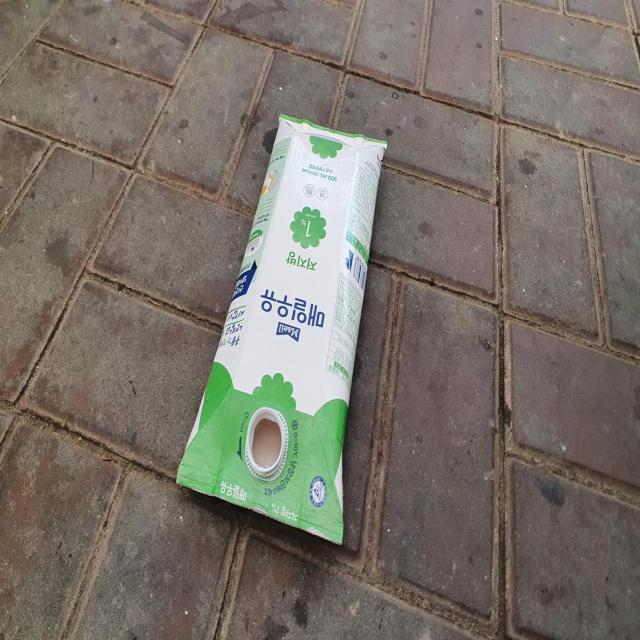paperpack: (177, 114, 386, 544)
